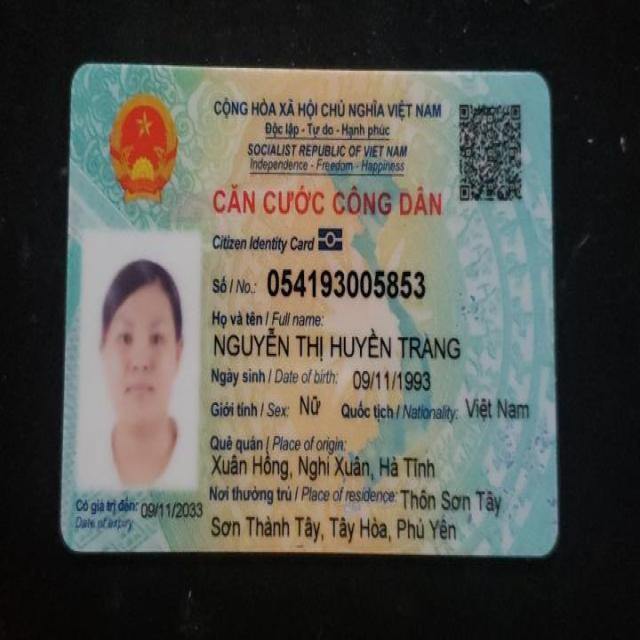bottom_left: (44, 507, 94, 568)
bottom_right: (520, 518, 577, 578)
image_person: (84, 232, 210, 495)
top_left: (56, 48, 100, 108)
top_right: (510, 56, 570, 104)
